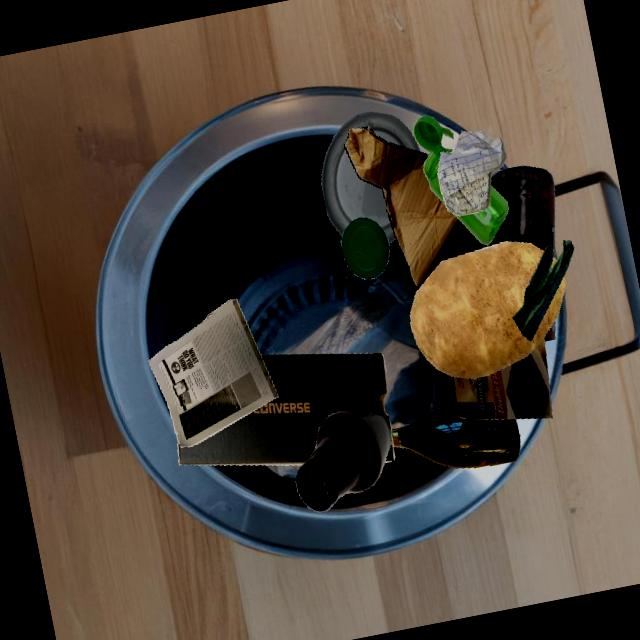biowaste: (410, 241, 566, 379), (513, 240, 574, 341)
cardboard: (177, 353, 395, 465), (344, 127, 473, 289), (454, 338, 552, 420), (451, 376, 455, 382)
glass: (296, 405, 391, 512), (391, 406, 520, 468), (487, 166, 555, 258)
paper: (148, 299, 279, 447), (438, 131, 507, 216)
plastic: (322, 112, 420, 244), (413, 115, 453, 205), (454, 185, 509, 245), (341, 217, 390, 279)
